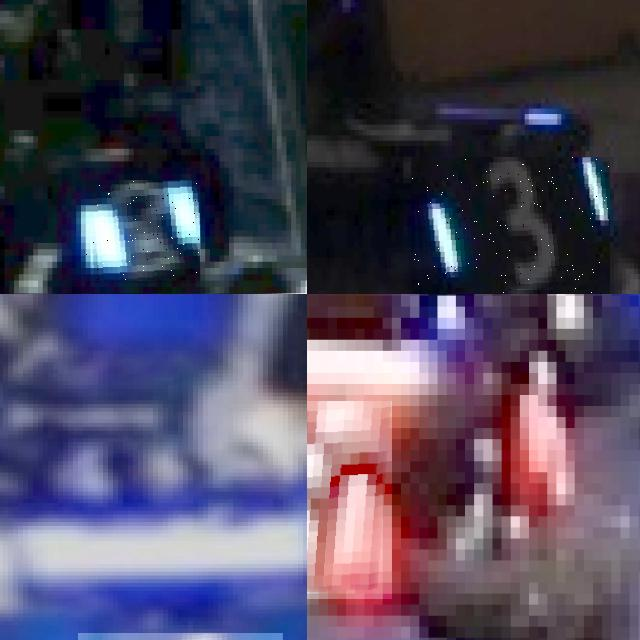B3: (411, 156, 609, 294)
Bs: (86, 180, 200, 283)
R5: (307, 400, 391, 599)
